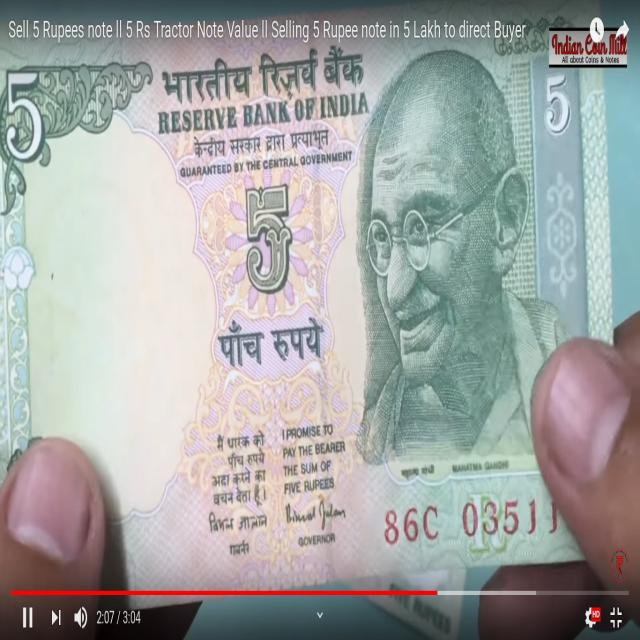5IndianRupees: (0, 31, 610, 583)
